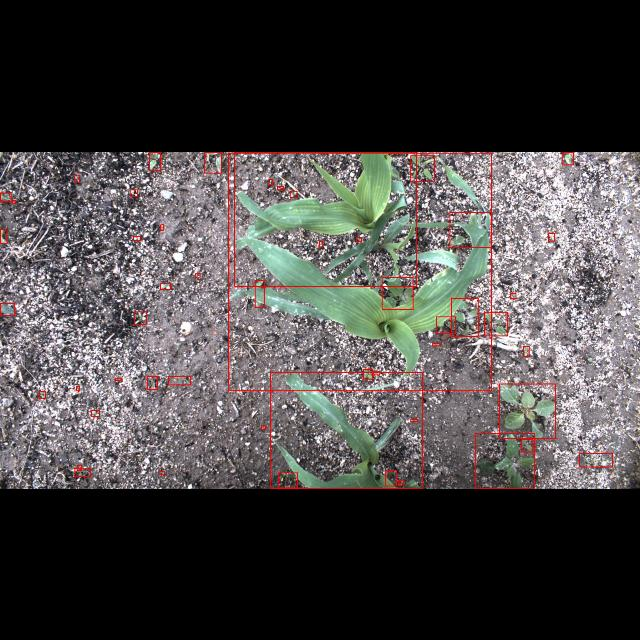crop: (228, 152, 492, 390), (235, 152, 417, 286), (270, 372, 422, 488)
weed: (476, 432, 534, 488), (499, 384, 555, 438), (450, 212, 490, 246), (452, 297, 478, 335), (382, 277, 412, 309), (410, 154, 434, 180), (484, 312, 508, 336), (580, 453, 612, 467), (204, 152, 222, 172), (278, 472, 298, 488), (436, 316, 456, 332), (254, 280, 264, 306), (1, 303, 16, 315), (150, 151, 160, 169), (168, 376, 190, 384), (134, 310, 146, 324), (386, 470, 396, 486), (562, 152, 574, 164), (147, 375, 157, 389), (522, 438, 532, 452), (74, 468, 90, 476), (363, 368, 372, 379), (1, 228, 8, 242), (0, 192, 12, 200), (130, 188, 138, 196), (160, 283, 170, 289), (91, 410, 99, 416), (548, 232, 554, 240), (524, 346, 528, 356), (39, 392, 45, 398), (290, 190, 296, 196), (510, 292, 516, 298), (398, 480, 404, 486), (356, 236, 362, 242), (74, 175, 80, 181), (134, 236, 140, 240), (260, 425, 266, 429), (319, 240, 323, 246), (278, 185, 284, 189), (269, 178, 273, 184), (160, 224, 163, 230), (76, 386, 80, 390), (372, 372, 380, 374), (432, 343, 440, 345), (196, 273, 200, 277), (410, 419, 418, 421), (77, 466, 81, 470), (160, 471, 164, 475), (115, 378, 121, 380), (12, 200, 15, 202)
